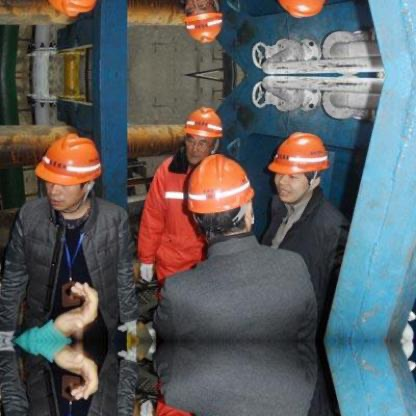Safety Helmet: (177, 148, 266, 251), (32, 129, 105, 216), (266, 127, 340, 210), (175, 99, 231, 171), (169, 1, 228, 50)
